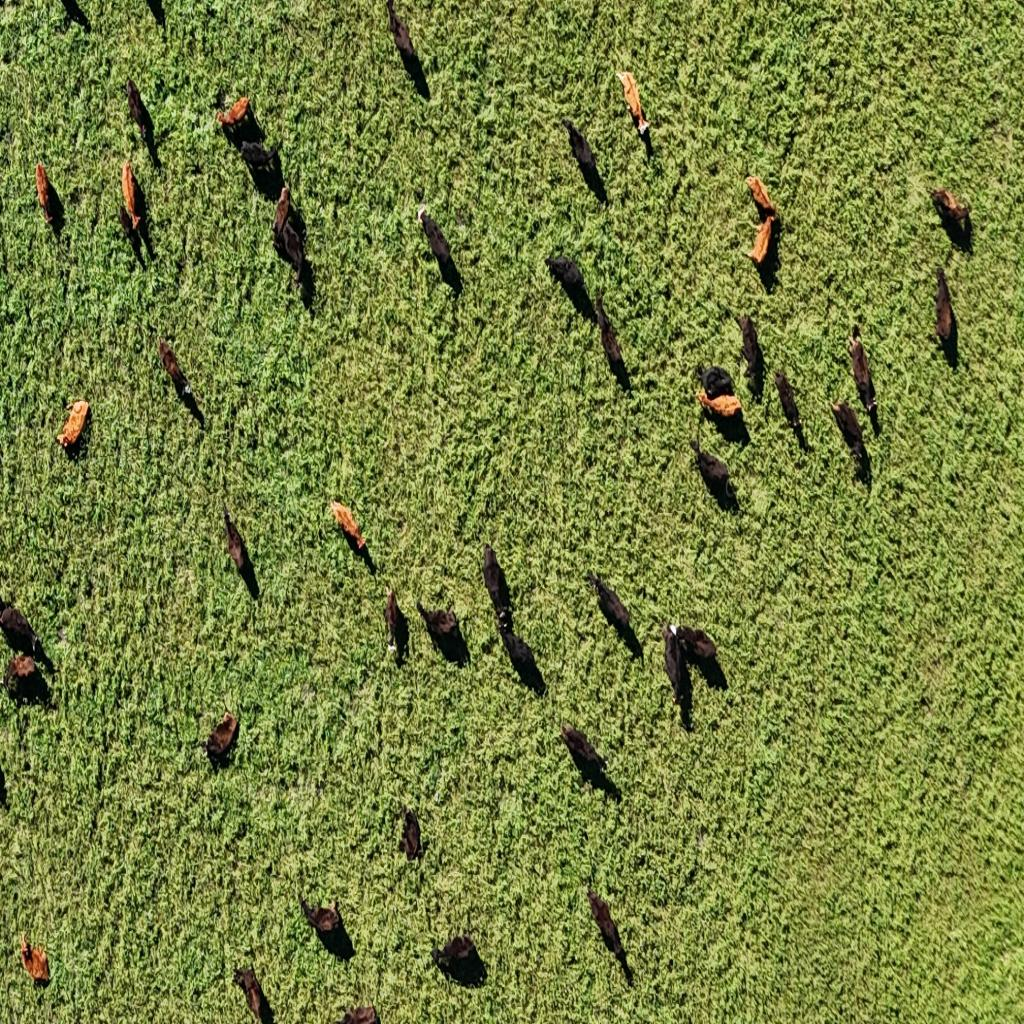cow: (584, 568, 634, 648), (690, 435, 736, 513), (416, 206, 458, 289), (586, 890, 628, 972), (562, 120, 604, 200), (0, 603, 51, 668), (272, 187, 307, 281), (415, 599, 465, 663), (499, 622, 543, 692), (594, 289, 627, 382), (560, 724, 608, 787), (848, 324, 878, 424), (545, 254, 592, 314), (615, 61, 651, 139), (430, 933, 484, 985), (829, 398, 868, 469), (385, 2, 421, 78), (482, 545, 512, 634), (662, 622, 690, 713), (670, 620, 719, 672), (197, 711, 239, 770), (929, 269, 955, 363), (929, 187, 972, 243), (773, 370, 806, 442), (2, 653, 46, 706), (232, 966, 272, 1024), (222, 503, 251, 579), (738, 314, 764, 398), (158, 338, 192, 402), (300, 894, 343, 942), (240, 138, 278, 190), (54, 399, 90, 453), (331, 500, 367, 552), (125, 77, 151, 146), (120, 160, 144, 234), (384, 583, 406, 661), (743, 170, 779, 216), (19, 930, 50, 982), (697, 388, 743, 421), (747, 217, 776, 268), (36, 162, 59, 226), (216, 96, 250, 138), (399, 806, 422, 864), (698, 365, 734, 401), (339, 1004, 381, 1024)
